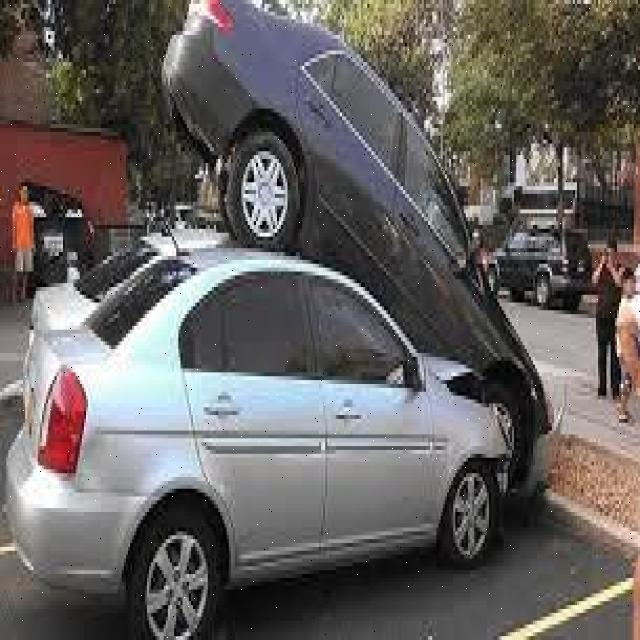severe: (0, 0, 567, 640)
